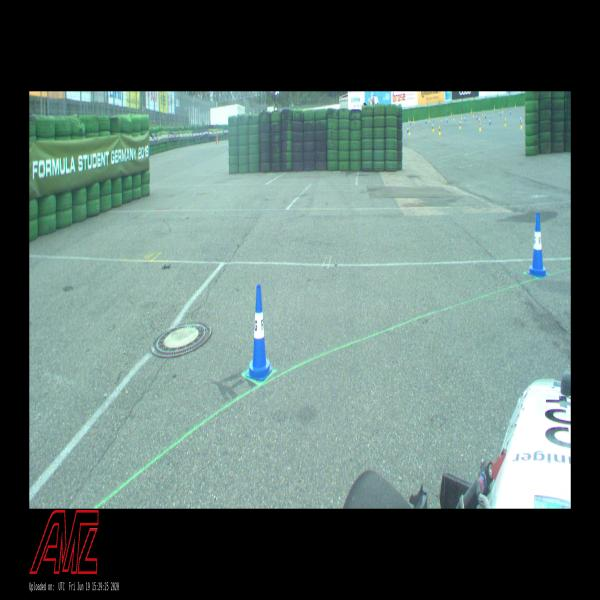blue_cone: (246, 284, 273, 381), (526, 212, 549, 278)
